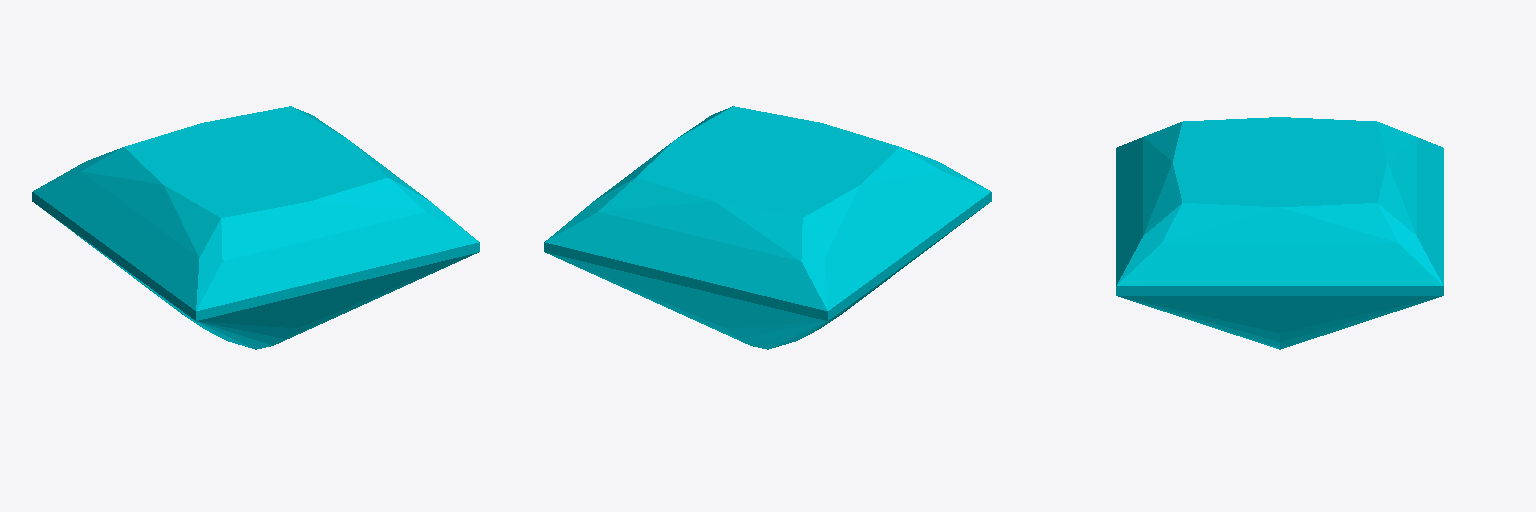
The model's file is Apatite_Low_Poly.obj.
3 renders of one model, left to right at view 1: azimuth 30°, elevation 25°; view 2: azimuth 150°, elevation 25°; view 3: azimuth 270°, elevation 25°, orthographic.
Visible parts, largest first — view 1: Apatite_-_Princess_Cut_Plane; view 2: Apatite_-_Princess_Cut_Plane; view 3: Apatite_-_Princess_Cut_Plane.
Boxes of the visible parts, box(x1,y1,x2,y2) form: Apatite_-_Princess_Cut_Plane: box(32, 106, 479, 349); Apatite_-_Princess_Cut_Plane: box(544, 106, 991, 349); Apatite_-_Princess_Cut_Plane: box(1116, 117, 1443, 349).
Bounding box in the file's own units: 1.88 × 1.19 × 1.88.